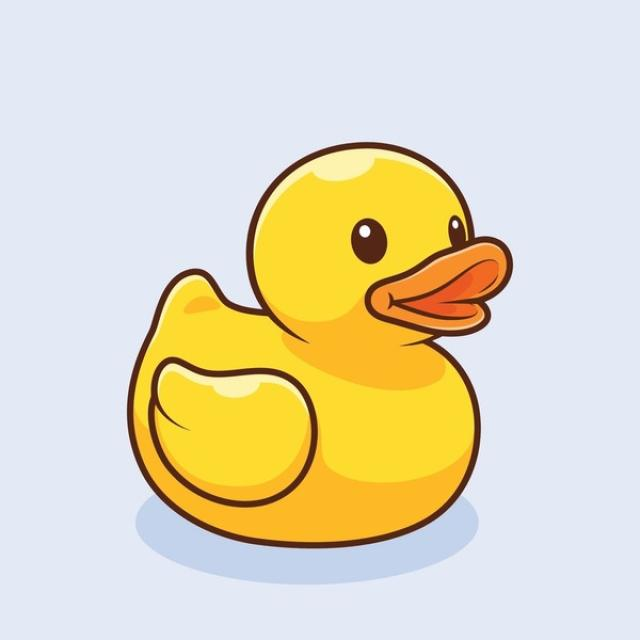Duck: (126, 142, 515, 548)
